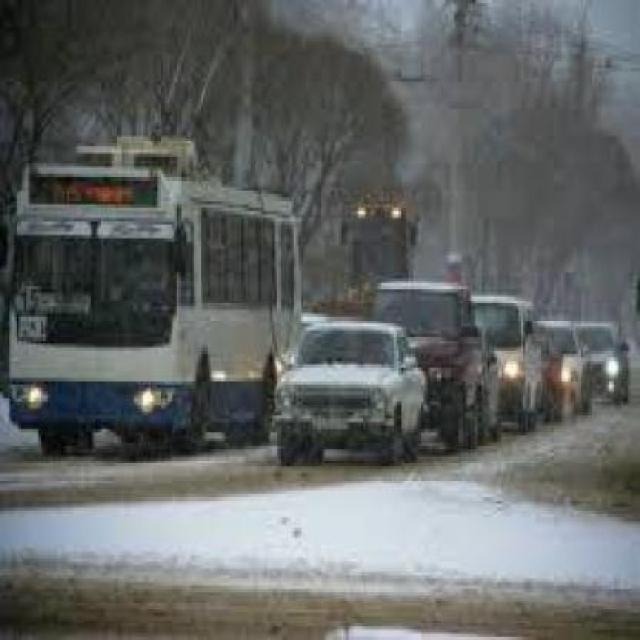bus: (5, 136, 271, 446)
car: (280, 318, 425, 475)
